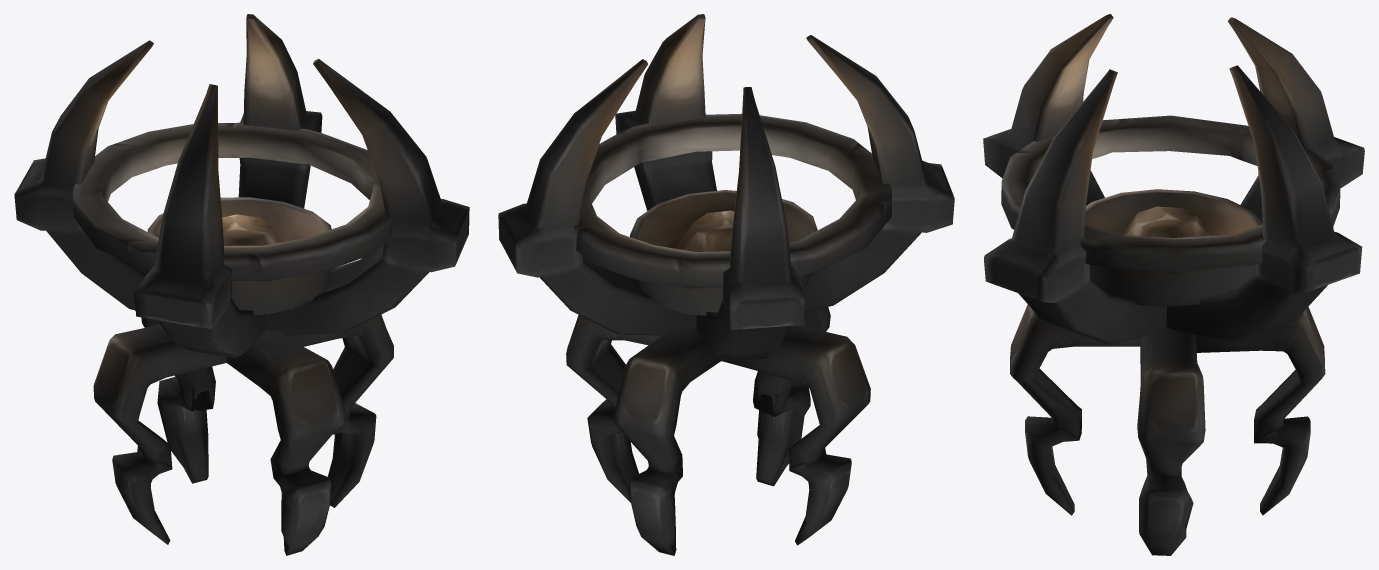
The model's file is TwistedJungle_Wall04.FBX.
3 renders of one model, left to right at view 1: azimuth 30°, elevation 25°; view 2: azimuth 150°, elevation 25°; view 3: azimuth 270°, elevation 25°, orthographic. The views are drawn at different scales.
Visible parts, largest first — view 1: TwistedJungle_Wall04; view 2: TwistedJungle_Wall04; view 3: TwistedJungle_Wall04.
Part boxes in pixels (left/top/right/bottom): TwistedJungle_Wall04: left=14, top=14, right=469, bottom=555; TwistedJungle_Wall04: left=498, top=14, right=954, bottom=555; TwistedJungle_Wall04: left=983, top=14, right=1364, bottom=555.
Size of the model in its own units: 86.58 by 117 by 86.08.
